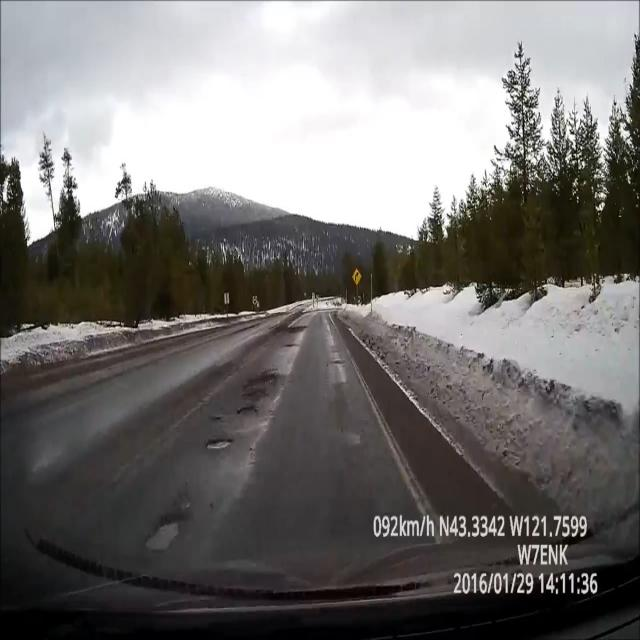Pothole: (201, 364, 279, 452), (140, 498, 195, 559), (278, 317, 312, 357)
